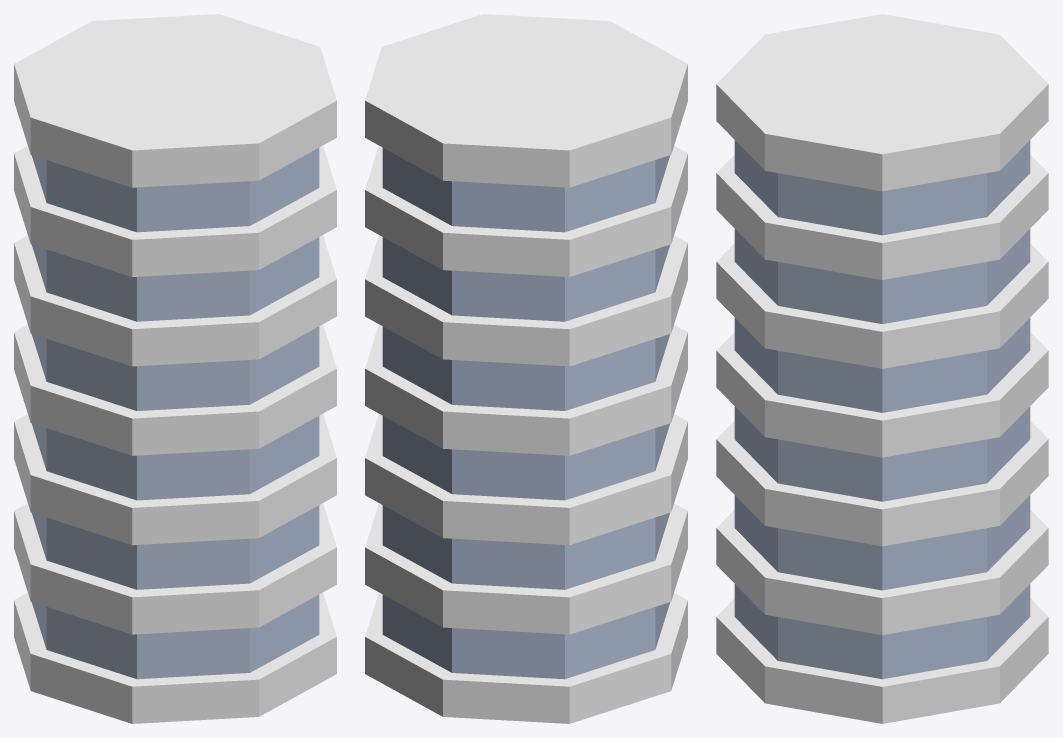
The model's file is Hochhaus_Zylinder_groß.fbx.
3 renders of one model, left to right at view 1: azimuth 30°, elevation 25°; view 2: azimuth 150°, elevation 25°; view 3: azimuth 270°, elevation 25°, orthographic.
Visible parts, largest first — view 1: Haus_Cylinder_groß; view 2: Haus_Cylinder_groß; view 3: Haus_Cylinder_groß.
Part boxes in pixels (left/top/right/bottom): Haus_Cylinder_groß: left=14, top=14, right=336, bottom=723; Haus_Cylinder_groß: left=365, top=14, right=687, bottom=723; Haus_Cylinder_groß: left=716, top=14, right=1048, bottom=723.
Bounding box in the file's own units: 1656 × 3135 × 1656.
